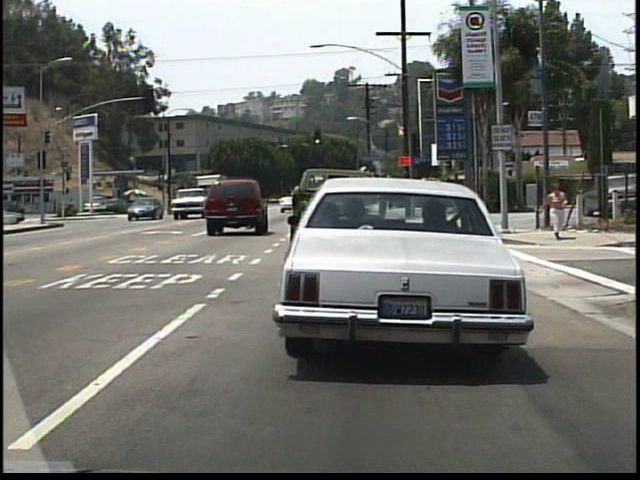person: (546, 179, 567, 242)
